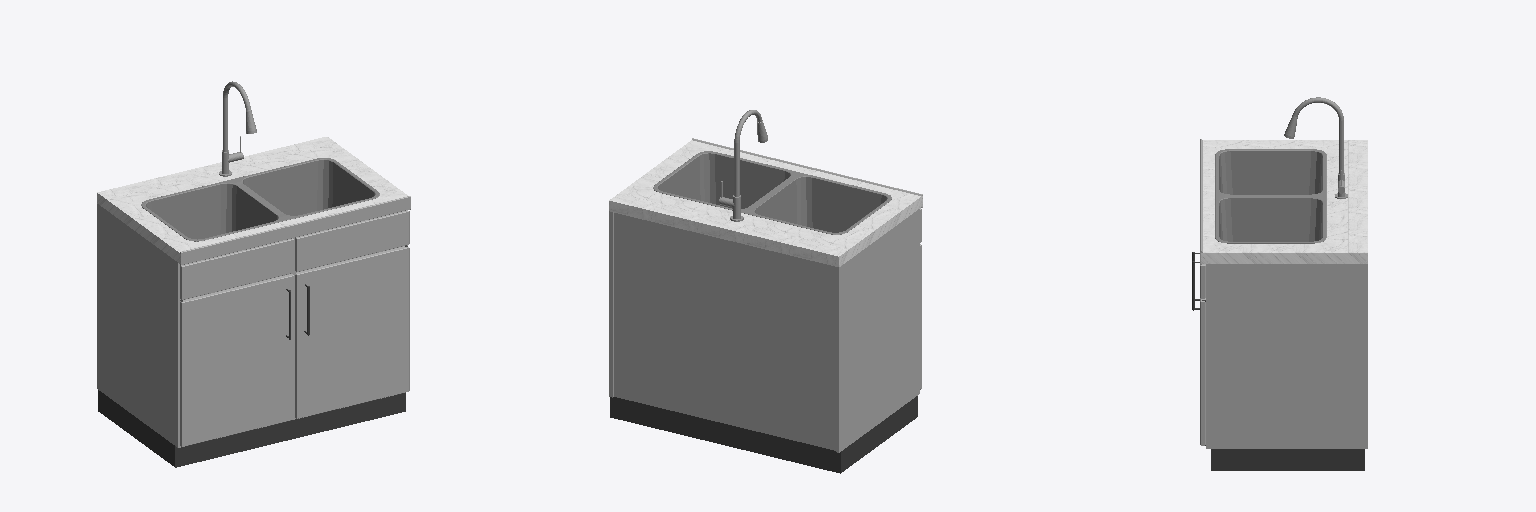
3 renders of one model, left to right at view 1: azimuth 30°, elevation 25°; view 2: azimuth 150°, elevation 25°; view 3: azimuth 270°, elevation 25°, orthographic.
Parts seen in each view (by area): view 1: sweethome3d_opening_on_hinge_2_door_25_24, sweethome3d_opening_on_hinge_1_door_21_22, frame_17_17, doublesink_14_14, top_6_6, toekick_11_11, drawerfront2_9_9, drawerfront1_10_10, border_4_4, sweethome3d_opening_on_hinge_3_spout_27_30; view 2: back_5_5, frame_17_17, top_6_6, doublesink_14_14, toekick_11_11, sweethome3d_opening_on_hinge_3_spout_27_30; view 3: frame_17_17, doublesink_14_14, top_6_6, toekick_11_11, sweethome3d_opening_on_hinge_2_door_25_24, sweethome3d_opening_on_hinge_3_spout_27_30.
Part boxes in pixels (left/top/right/bottom): sweethome3d_opening_on_hinge_2_door_25_24: left=295, top=246, right=409, bottom=418; sweethome3d_opening_on_hinge_1_door_21_22: left=180, top=274, right=293, bottom=446; frame_17_17: left=97, top=204, right=407, bottom=447; doublesink_14_14: left=141, top=158, right=379, bottom=241; top_6_6: left=97, top=137, right=407, bottom=263; toekick_11_11: left=98, top=390, right=405, bottom=467; drawerfront2_9_9: left=295, top=210, right=409, bottom=271; drawerfront1_10_10: left=180, top=238, right=293, bottom=299; border_4_4: left=180, top=196, right=410, bottom=265; sweethome3d_opening_on_hinge_3_spout_27_30: left=223, top=81, right=256, bottom=151; back_5_5: left=614, top=213, right=835, bottom=450; frame_17_17: left=609, top=209, right=919, bottom=452; top_6_6: left=609, top=140, right=922, bottom=266; doublesink_14_14: left=653, top=151, right=891, bottom=234; toekick_11_11: left=610, top=396, right=917, bottom=473; sweethome3d_opening_on_hinge_3_spout_27_30: left=734, top=110, right=767, bottom=196; frame_17_17: left=1206, top=264, right=1367, bottom=448; doublesink_14_14: left=1215, top=149, right=1326, bottom=243; top_6_6: left=1201, top=140, right=1367, bottom=263; toekick_11_11: left=1211, top=449, right=1364, bottom=470; sweethome3d_opening_on_hinge_2_door_25_24: left=1200, top=298, right=1205, bottom=445; sweethome3d_opening_on_hinge_3_spout_27_30: left=1285, top=97, right=1343, bottom=174.
Size of the model in its own units: 100 by 132 by 66.
21 materials, 1 textured.